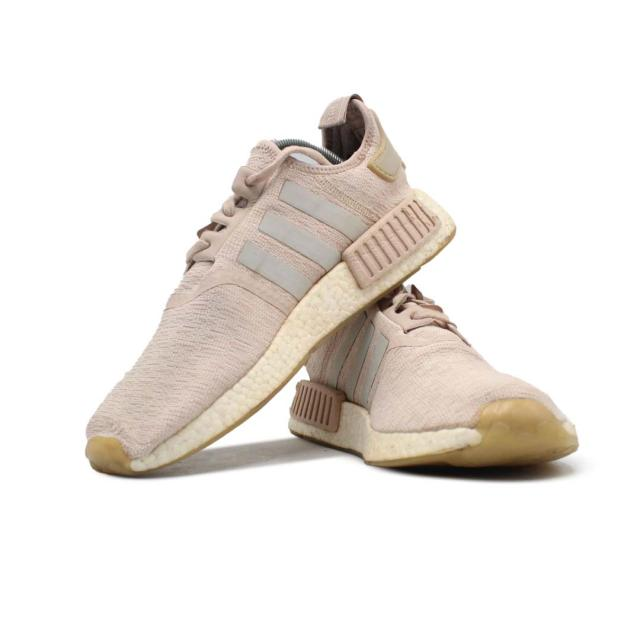heel: (313, 93, 409, 216)
midsole: (86, 187, 458, 475), (289, 382, 578, 477)
uppersole: (83, 141, 380, 454), (317, 288, 577, 430)
